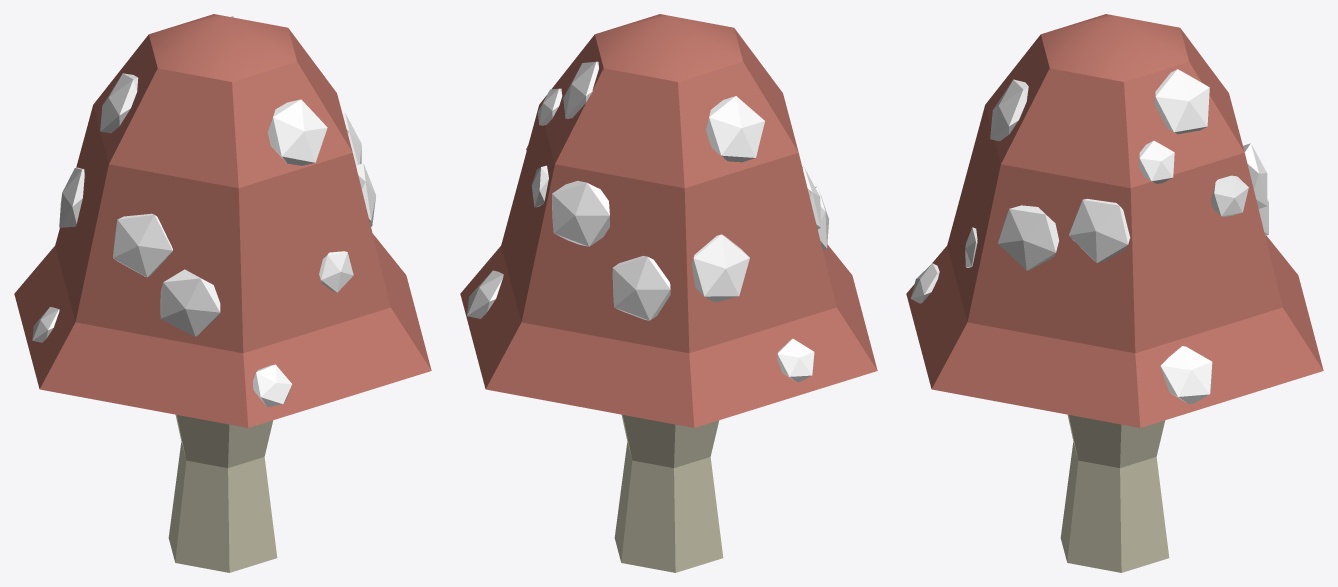
Rendered from Toadstool Item.fbx.
3 views of the same model, side by side, from view 1: azimuth 30°, elevation 25°; view 2: azimuth 150°, elevation 25°; view 3: azimuth 270°, elevation 25° (orthographic).
Parts seen in each view (by area): view 1: mushroom5; view 2: mushroom5; view 3: mushroom5.
Part boxes in pixels (x1=…): mushroom5: x1=14, y1=14, x2=431, y2=572; mushroom5: x1=460, y1=14, x2=877, y2=572; mushroom5: x1=906, y1=14, x2=1323, y2=572.
Size of the model in its own units: 0.2029 by 0.2632 by 0.1871.
